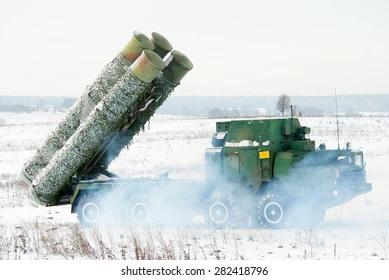MIL_SAM_TEL: (21, 28, 371, 233)
